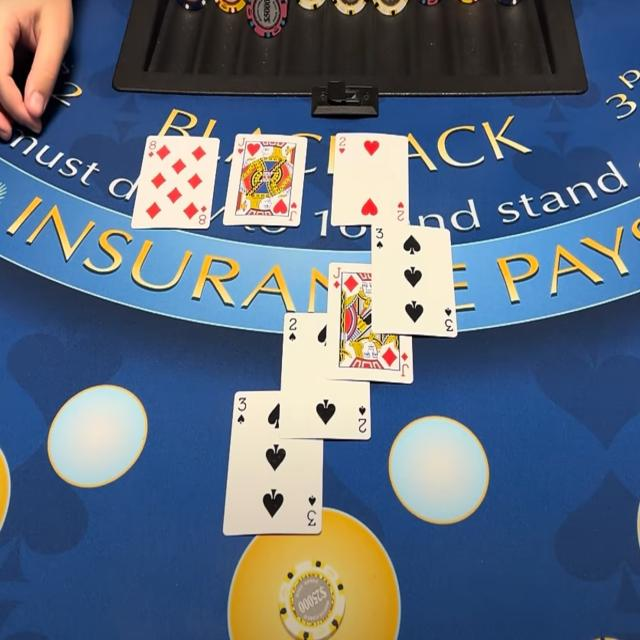2: (287, 316, 299, 333), (338, 135, 347, 147)
3: (235, 394, 250, 414), (373, 226, 385, 241)
8: (148, 138, 157, 150)
J: (331, 264, 341, 279), (237, 136, 246, 148)
